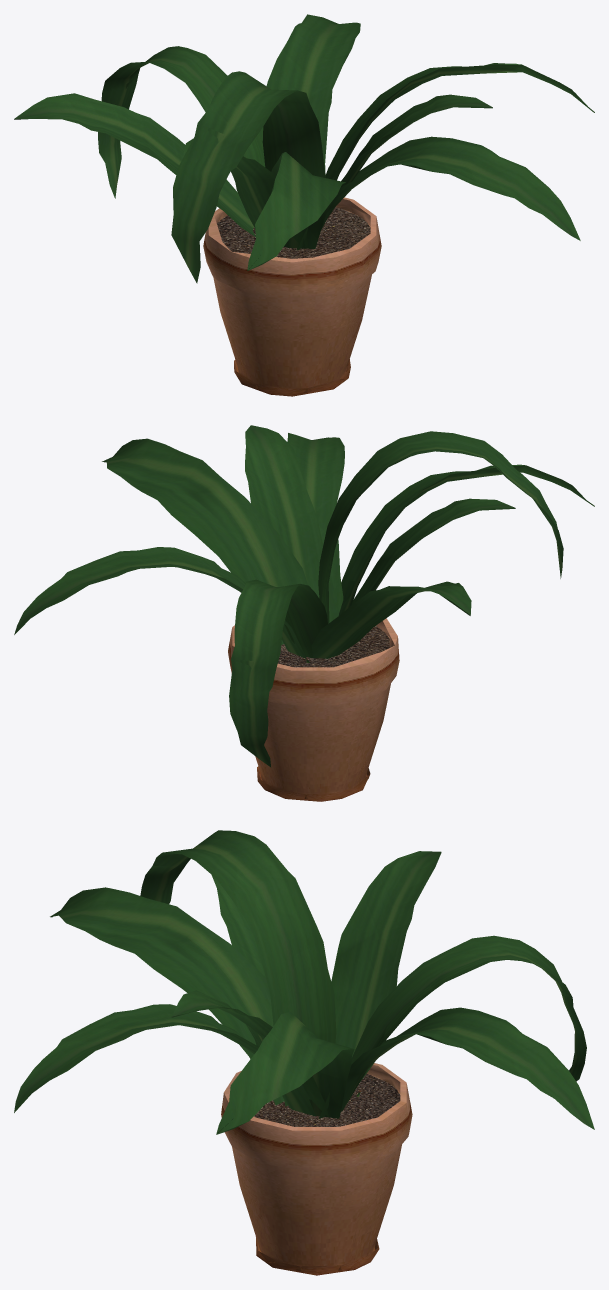
Rendered from FlowerRoom3b.FBX.
3 renders of one model, top to bottom at view 1: azimuth 30°, elevation 25°; view 2: azimuth 150°, elevation 25°; view 3: azimuth 270°, elevation 25°, orthographic. The views are drawn at different scales.
Parts seen in each view (by area): view 1: Cylinder001; view 2: Cylinder001; view 3: Cylinder001.
Part boxes in pixels (x1,y1,x2,y2): Cylinder001: (14,14,594,396); Cylinder001: (14,425,594,801); Cylinder001: (14,830,594,1275).
Size of the model in its own units: 76.58 by 52.17 by 75.75.
